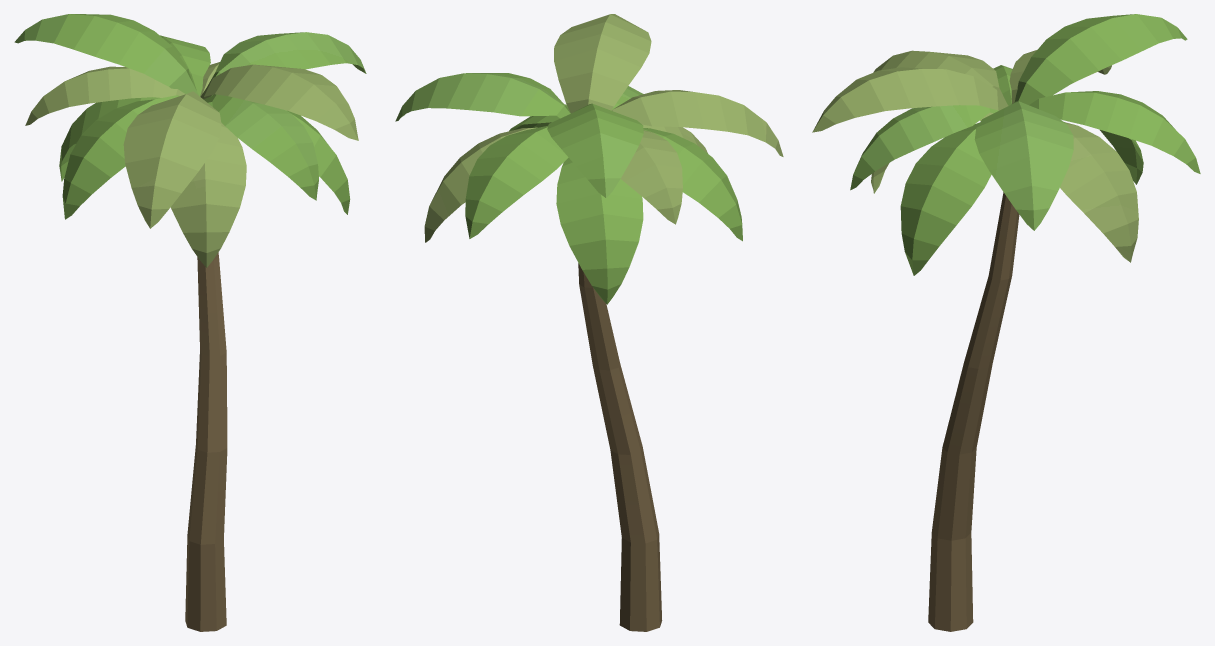
File: tree3.obj
The picture shows the model from 3 angles, left to right: view 1: azimuth 30°, elevation 25°; view 2: azimuth 150°, elevation 25°; view 3: azimuth 270°, elevation 25°; orthographic projection. The views are drawn at different scales.
Parts seen in each view (by area): view 1: Palm_Tree; view 2: Palm_Tree; view 3: Palm_Tree.
Boxes of the visible parts, bbox=[...] form: Palm_Tree: bbox=[14, 14, 366, 631]; Palm_Tree: bbox=[395, 14, 783, 631]; Palm_Tree: bbox=[812, 14, 1200, 631].
Size of the model in its own units: 3.24 by 5.4 by 3.24.
1 material, 1 textured.
